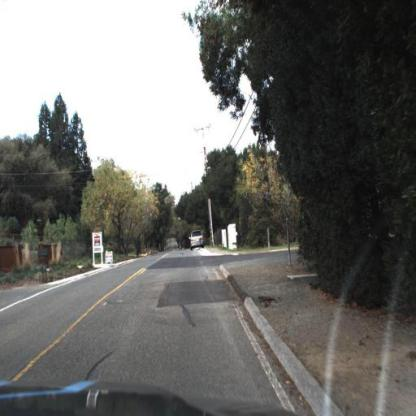car: (187, 227, 207, 254)
